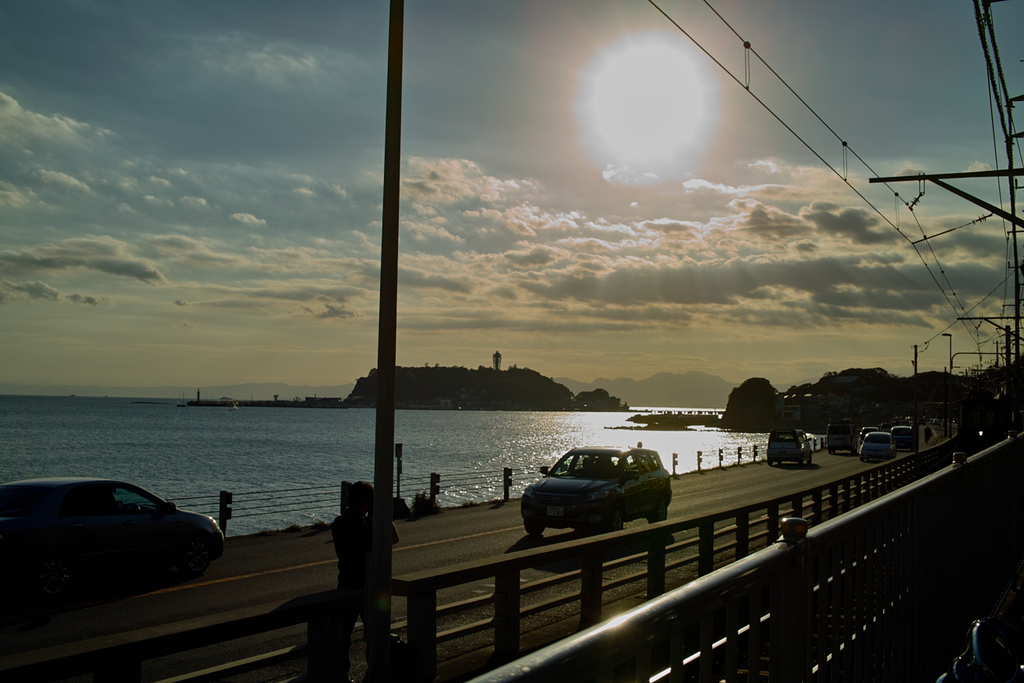Car: (0, 471, 224, 605), (522, 443, 684, 540), (763, 422, 817, 471), (823, 411, 859, 460), (857, 427, 896, 460), (889, 418, 923, 450), (895, 427, 915, 452)
